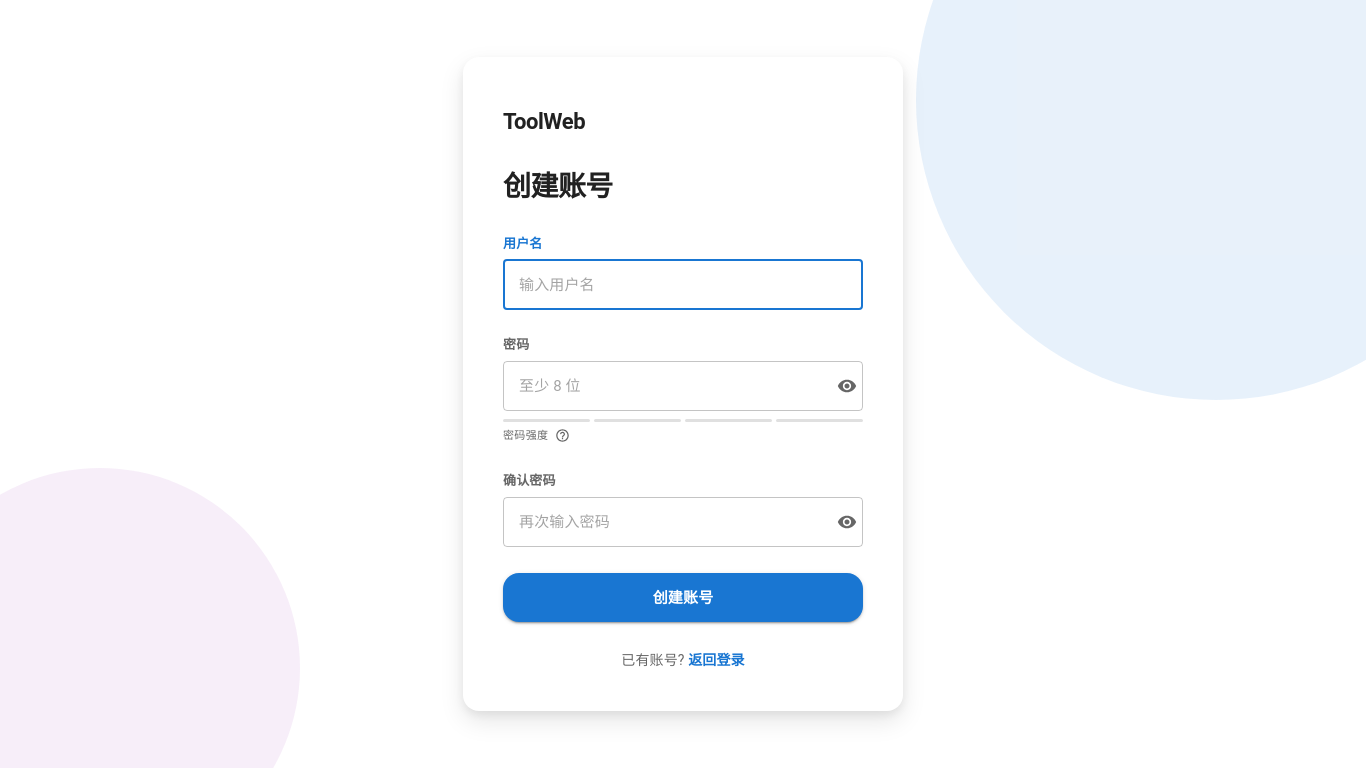
it: RegisterPage › shows whether confirmation password matches
Type "secret123" into the password field with placeholder "至少 8 位" at {"x": 664, "y": 386}, box left=503, top=361, right=824, bottom=411
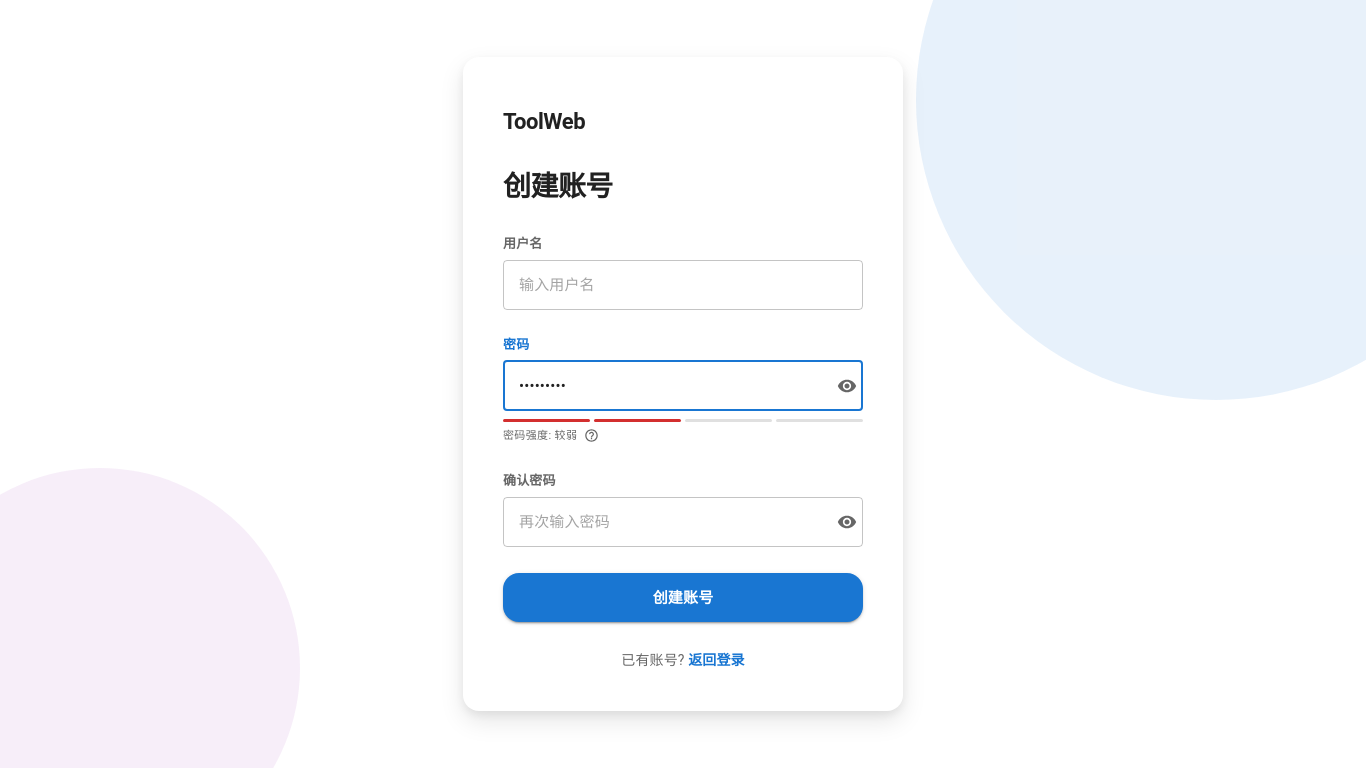
Type "secret124" into the password field with placeholder "再次输入密码" at {"x": 664, "y": 522}, box left=503, top=497, right=824, bottom=547
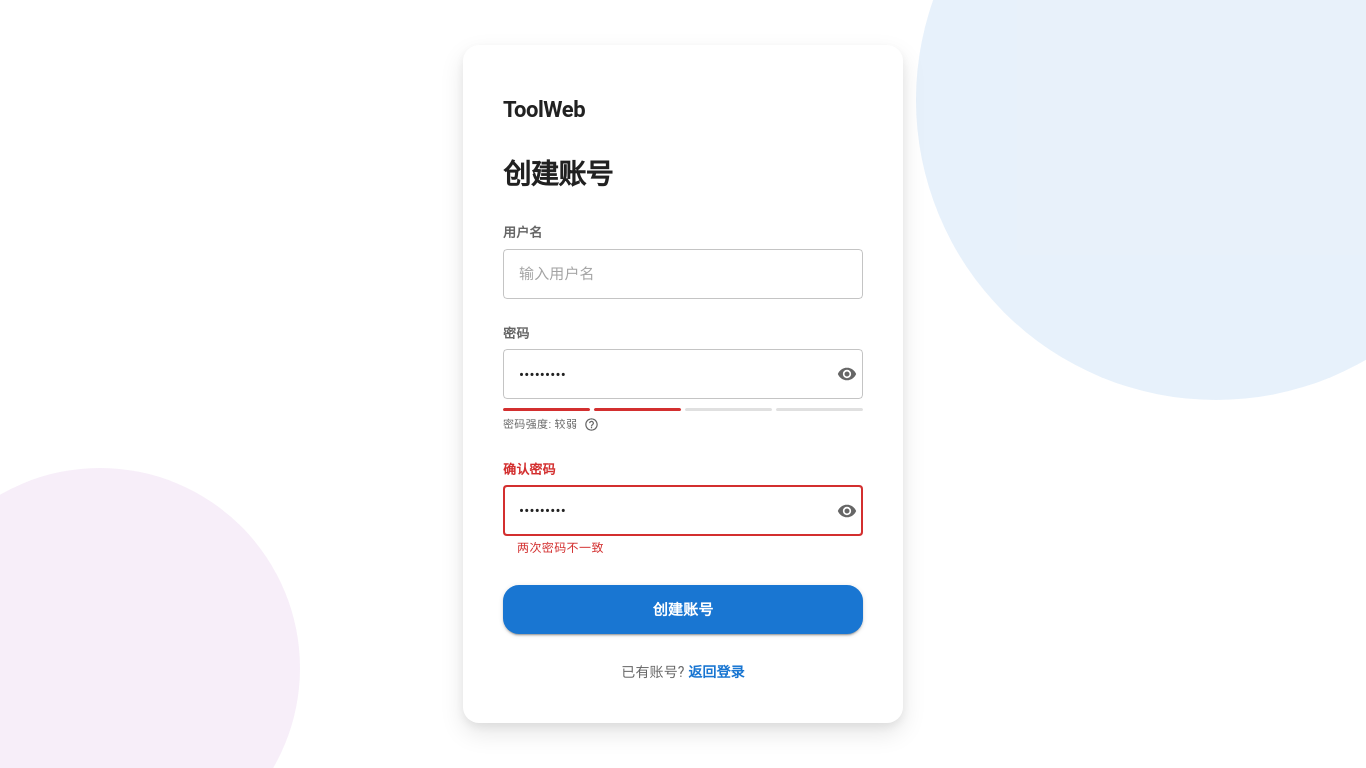
Result: the text "两次密码不一致" is shown at left=517, top=541, right=604, bottom=555
Clear the password field below "确认密码" at {"x": 664, "y": 511}, box left=503, top=486, right=824, bottom=536
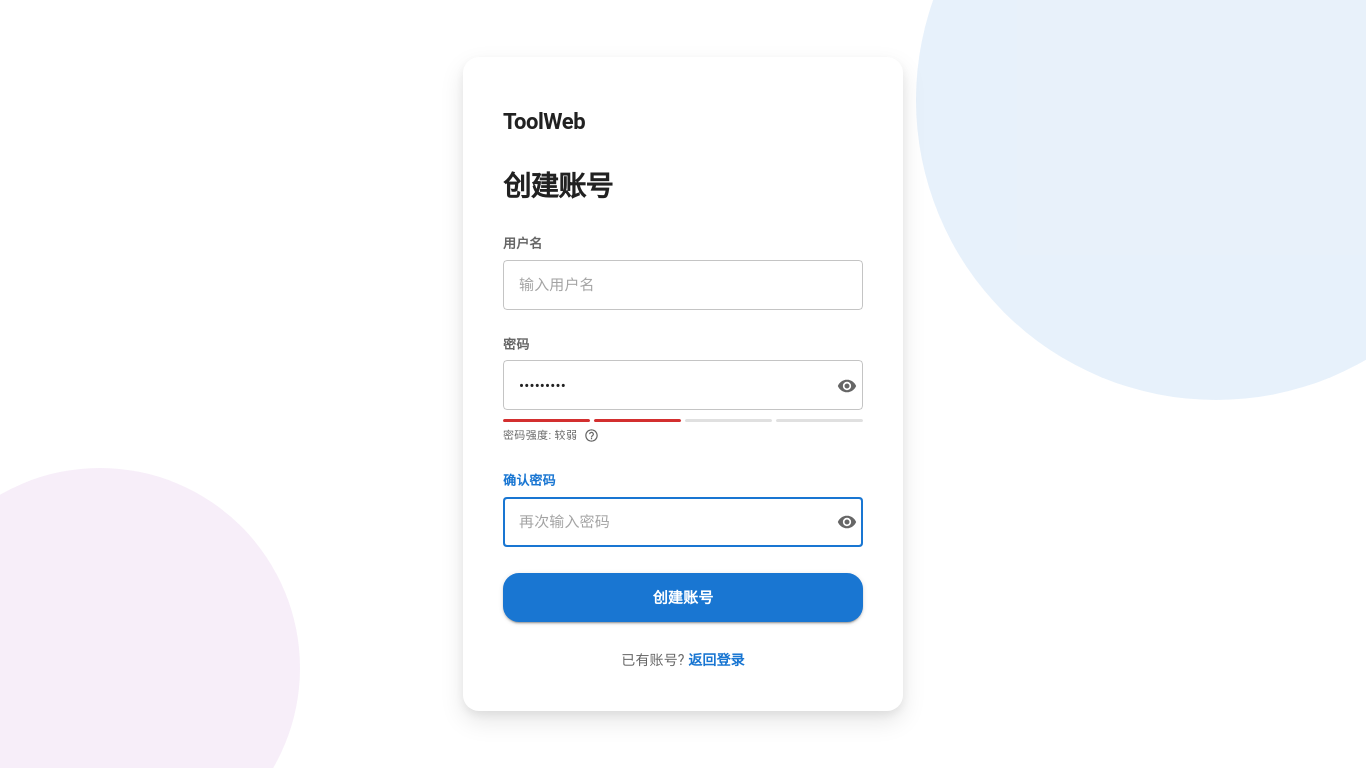
Type "secret123" into the password field with placeholder "再次输入密码" at {"x": 664, "y": 522}, box left=503, top=497, right=824, bottom=547
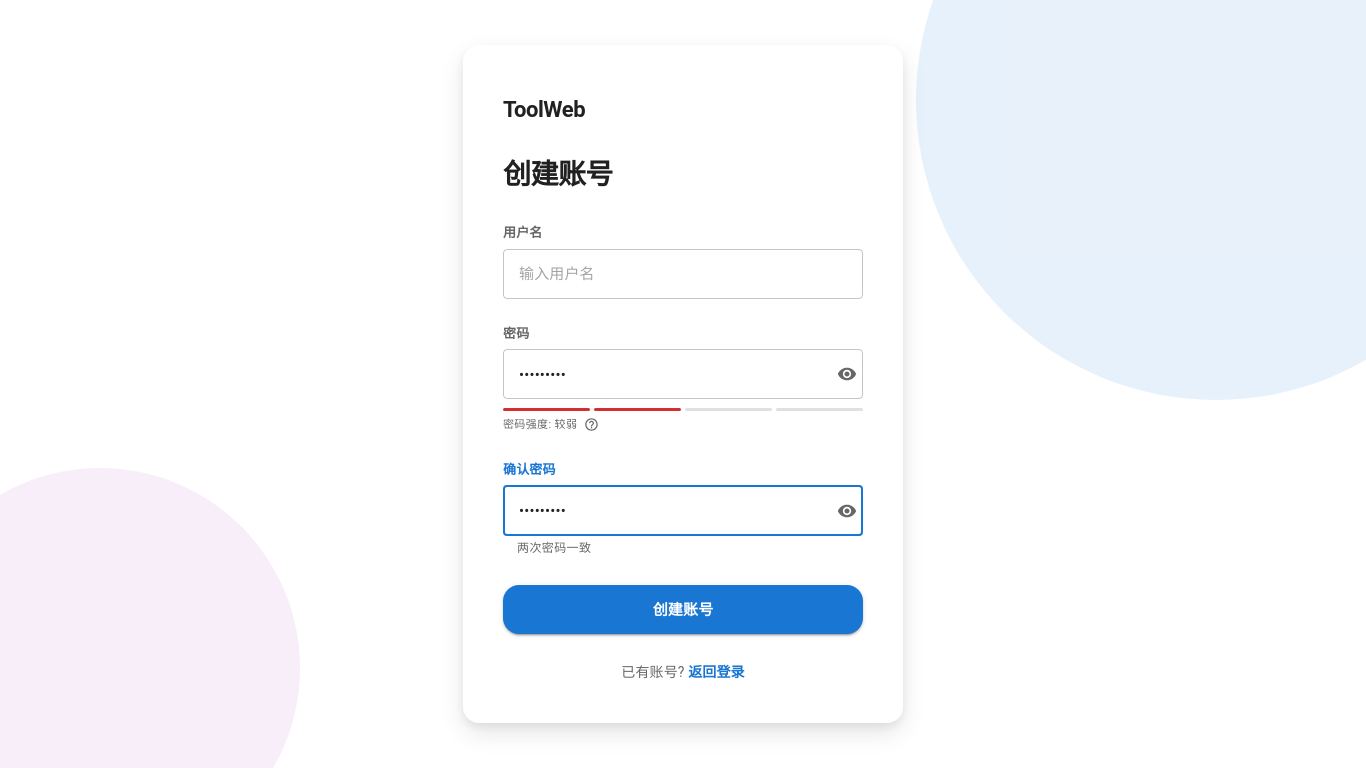
Result: the text "两次密码一致" is shown at left=517, top=541, right=591, bottom=555
